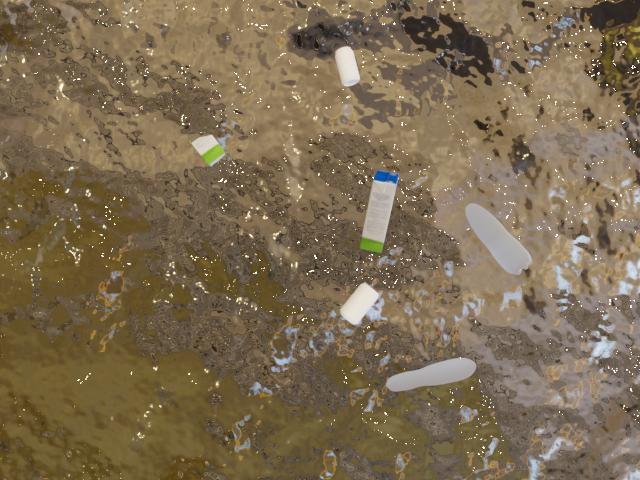Metal: (333, 282, 391, 335), (327, 41, 371, 104)
Plastic: (450, 194, 546, 283), (384, 346, 480, 401)
Trash: (357, 161, 406, 265), (187, 123, 238, 180)
